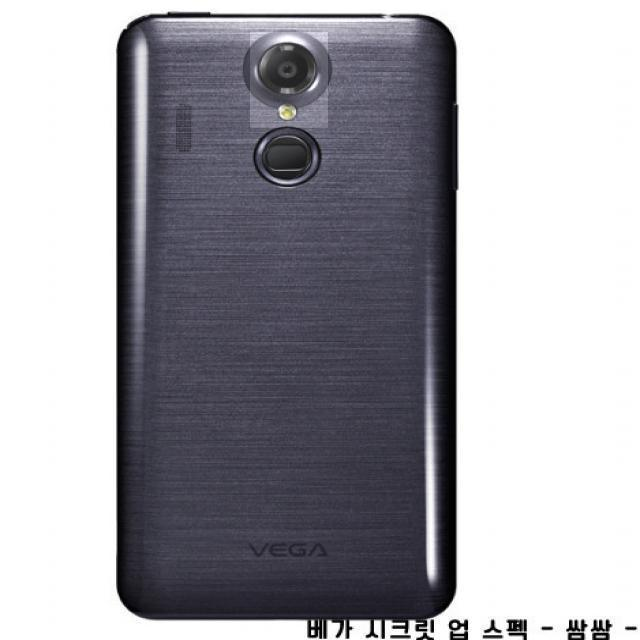phone: (108, 7, 461, 620)
